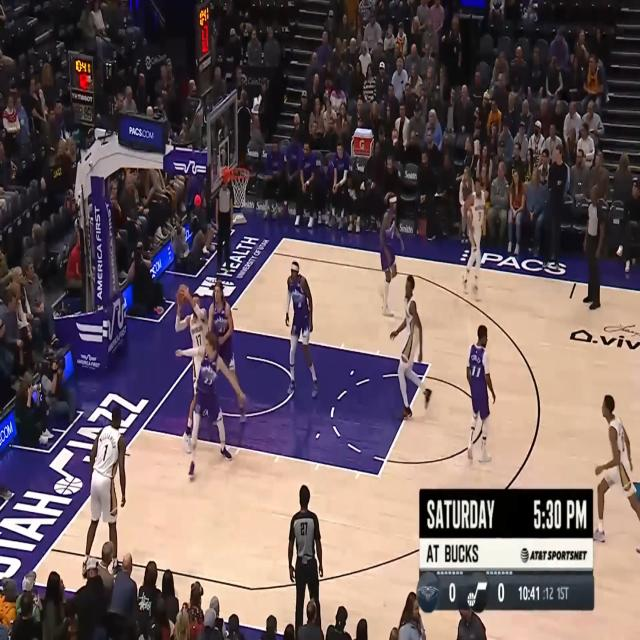Ball: (177, 284, 189, 308)
Clock: (68, 52, 94, 94), (198, 2, 210, 59)
Hoop: (228, 166, 250, 208)
Overlay: (416, 487, 595, 614)
Player: (176, 331, 246, 480), (81, 403, 127, 575), (593, 394, 640, 554), (200, 280, 247, 422), (389, 274, 432, 421), (175, 287, 212, 455), (285, 260, 319, 402), (466, 324, 496, 462), (379, 192, 405, 318), (461, 177, 487, 301)
Ref: (286, 483, 324, 640), (582, 184, 604, 311), (215, 176, 234, 277)
Scoreboard: (417, 569, 573, 613)
